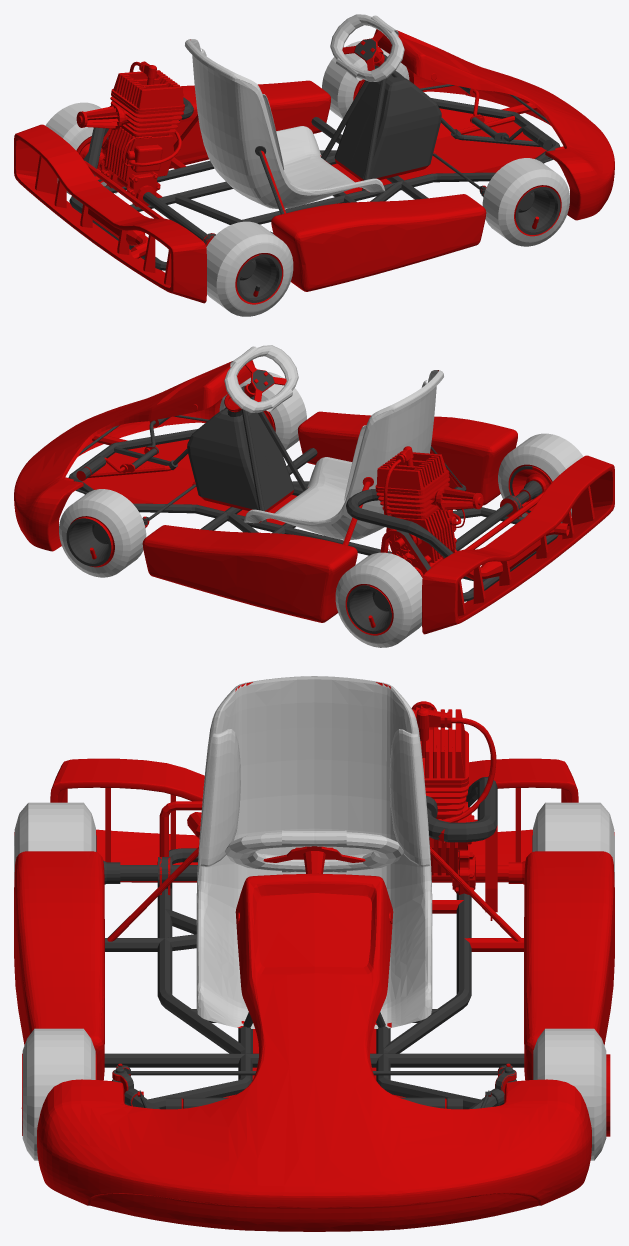
The model's file is Cart_Rigged.obj.
3 renders of one model, top to bottom at view 1: azimuth 30°, elevation 25°; view 2: azimuth 150°, elevation 25°; view 3: azimuth 270°, elevation 25°, orthographic. The views are drawn at different scales.
Parts seen in each view (by area): view 1: kart; view 2: kart; view 3: kart.
Part boxes in pixels (<box>): kart: <box>14,14,614,316</box>; kart: <box>14,345,614,647</box>; kart: <box>14,676,614,1231</box>.
Bounding box in the file's own units: 162 × 58.84 × 110.
